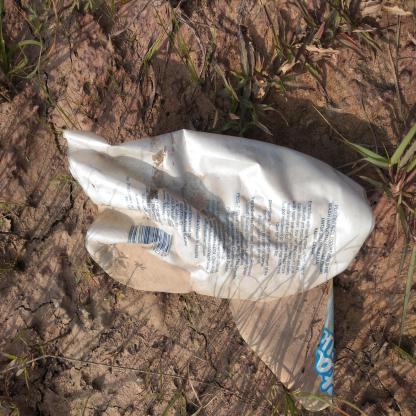plastik: (61, 127, 377, 305)
